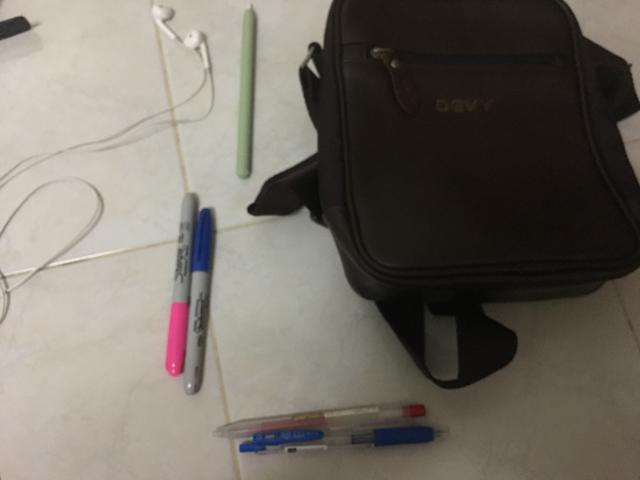Pen: (212, 402, 425, 439), (239, 426, 453, 454), (166, 192, 198, 375), (184, 209, 212, 395)
wire: (130, 5, 215, 131)
